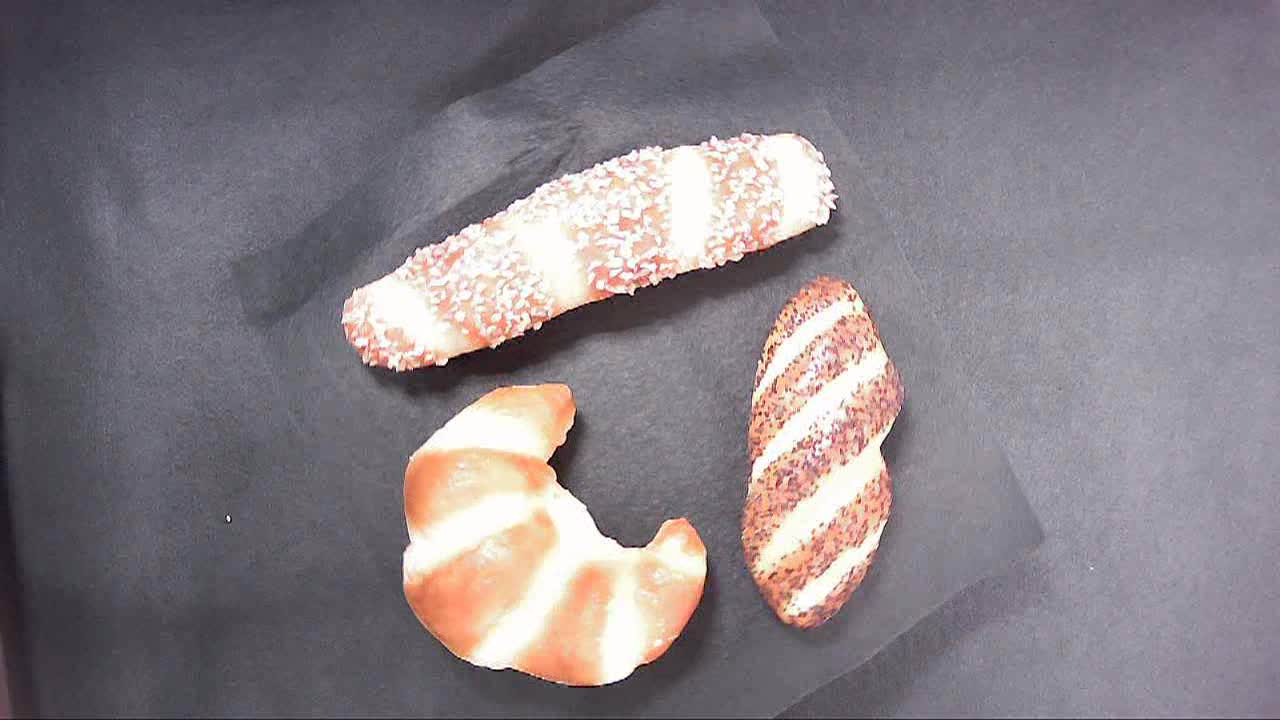cow: (379, 382, 718, 695)
long: (344, 127, 863, 273), (335, 243, 713, 382)
slash: (740, 273, 927, 636)
